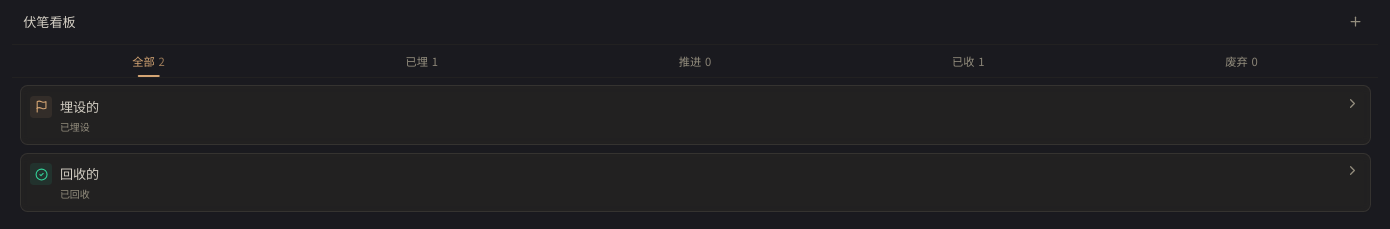
ForeshadowPanel › 点击"已收"筛选 tab 仅显示已回收的伏笔
The width and height of the screenshot is (1390, 229).
Expected: the text "埋设的" is shown, [60, 96, 99, 117]
Expected: the text "回收的" is shown, [60, 163, 99, 184]
点击"已收"筛选
Click the button "已收1".
click(968, 61)  # box [832, 45, 1105, 77]
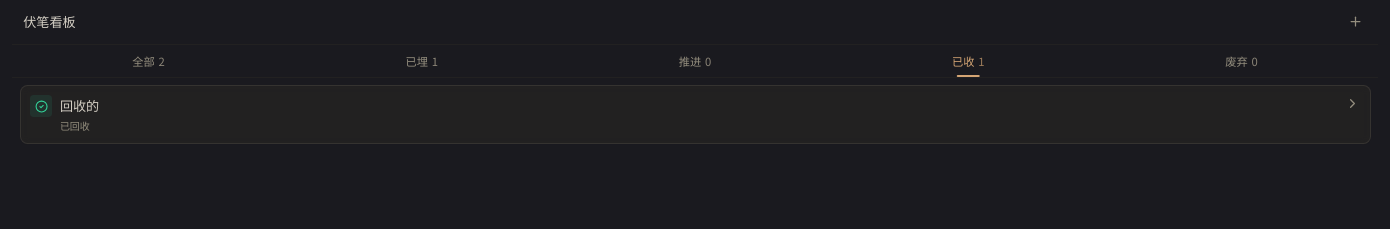
Expected: the text "回收的" is shown, [60, 96, 99, 117]
Expected: the button "埋设的" is gone
